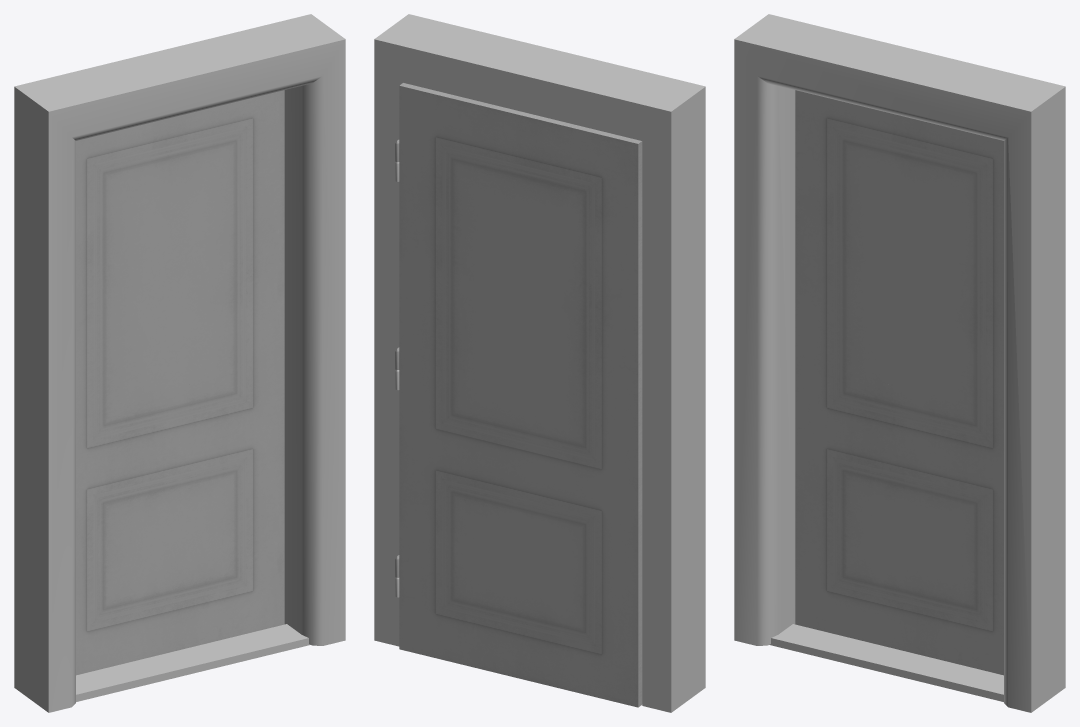
The model's file is doorfile3.fbx.
3 renders of one model, left to right at view 1: azimuth 30°, elevation 25°; view 2: azimuth 150°, elevation 25°; view 3: azimuth 330°, elevation 25°, orthographic.
Visible parts, largest first — view 1: doorWing.002, jj_door_2_white; view 2: doorWing.002, jj_door_2_white; view 3: doorWing.002, jj_door_2_white.
Boxes of the visible parts, bbox=[...] form: doorWing.002: bbox=[76, 90, 284, 675]; jj_door_2_white: bbox=[14, 14, 345, 712]; doorWing.002: bbox=[395, 83, 642, 707]; jj_door_2_white: bbox=[374, 14, 705, 712]; doorWing.002: bbox=[795, 90, 1003, 675]; jj_door_2_white: bbox=[734, 14, 1065, 712].
Bounding box in the file's own units: 112 × 217 × 25.28.
